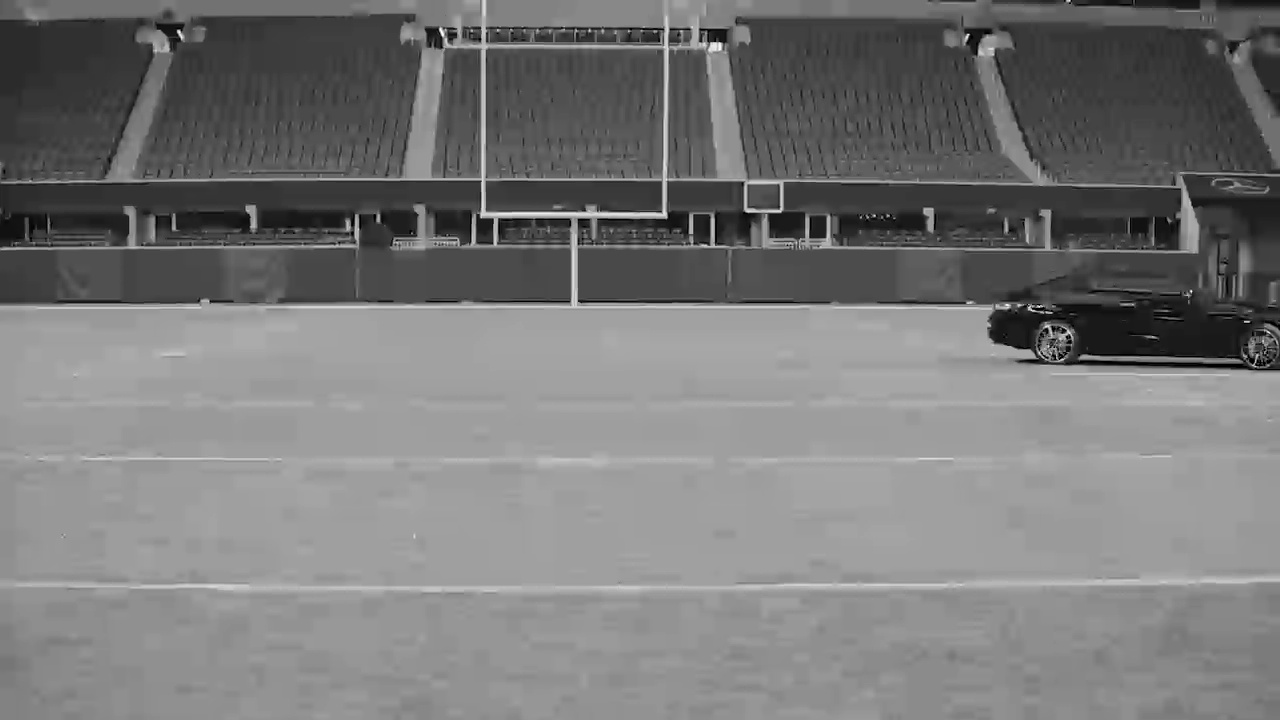car: (986, 268, 1280, 380)
